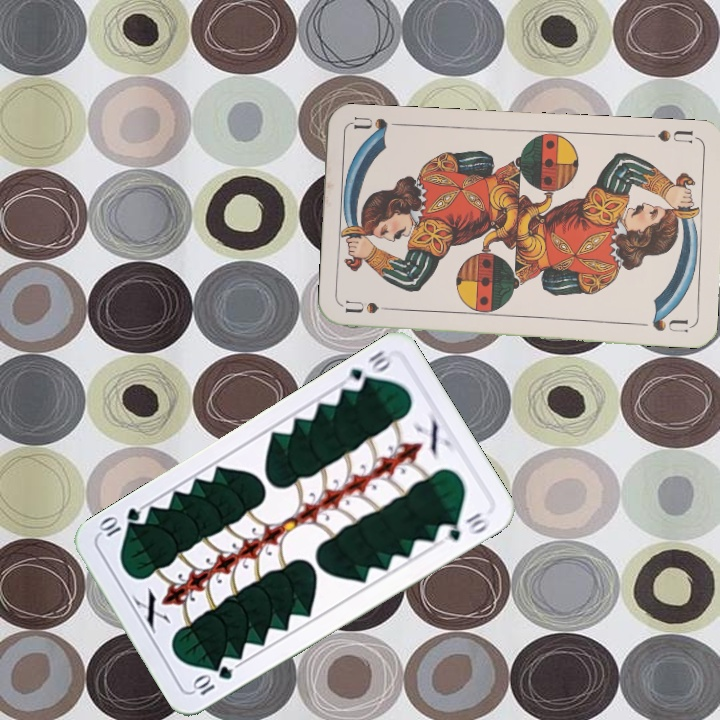G10: (339, 346, 394, 394), (189, 661, 235, 698)
SU: (342, 296, 402, 316), (654, 126, 695, 145)
